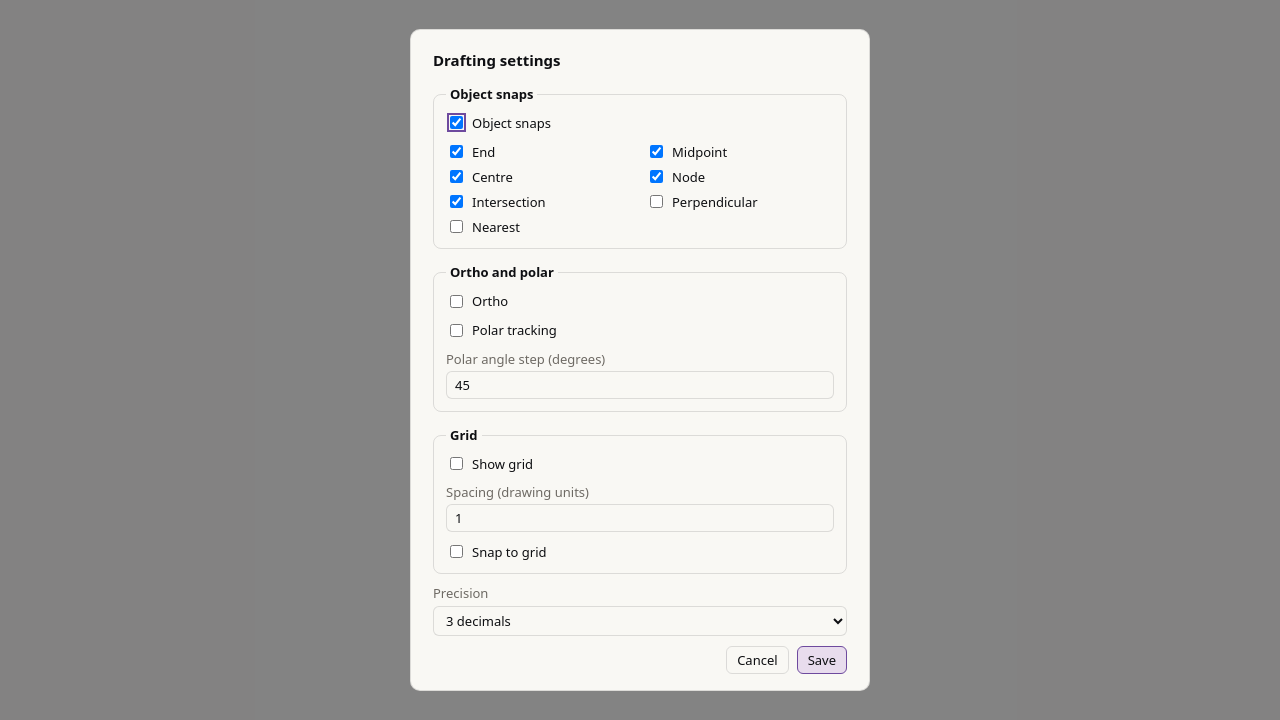
Test: a refused save stays open and says why
Click the button "Save" at [822, 660], box left=797, top=646, right=847, bottom=674
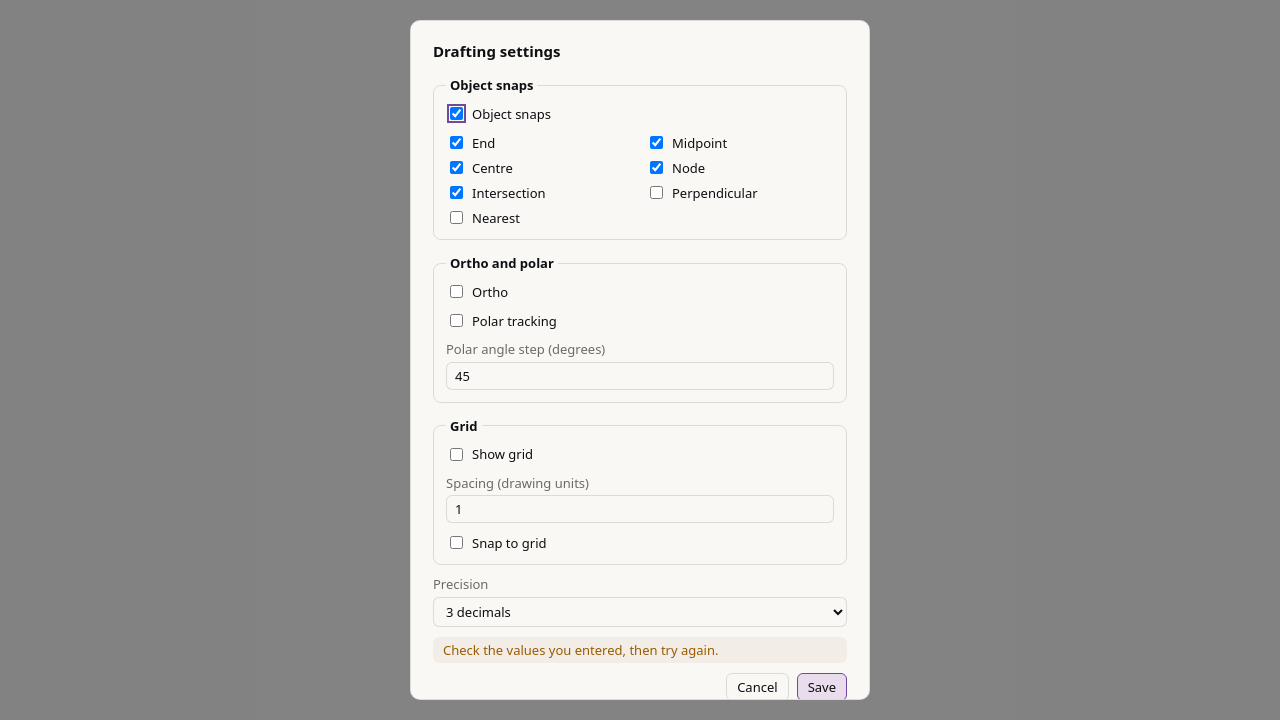
Expected: the message reads "Check the values you entered, then try again.", left=443, top=640, right=718, bottom=658
